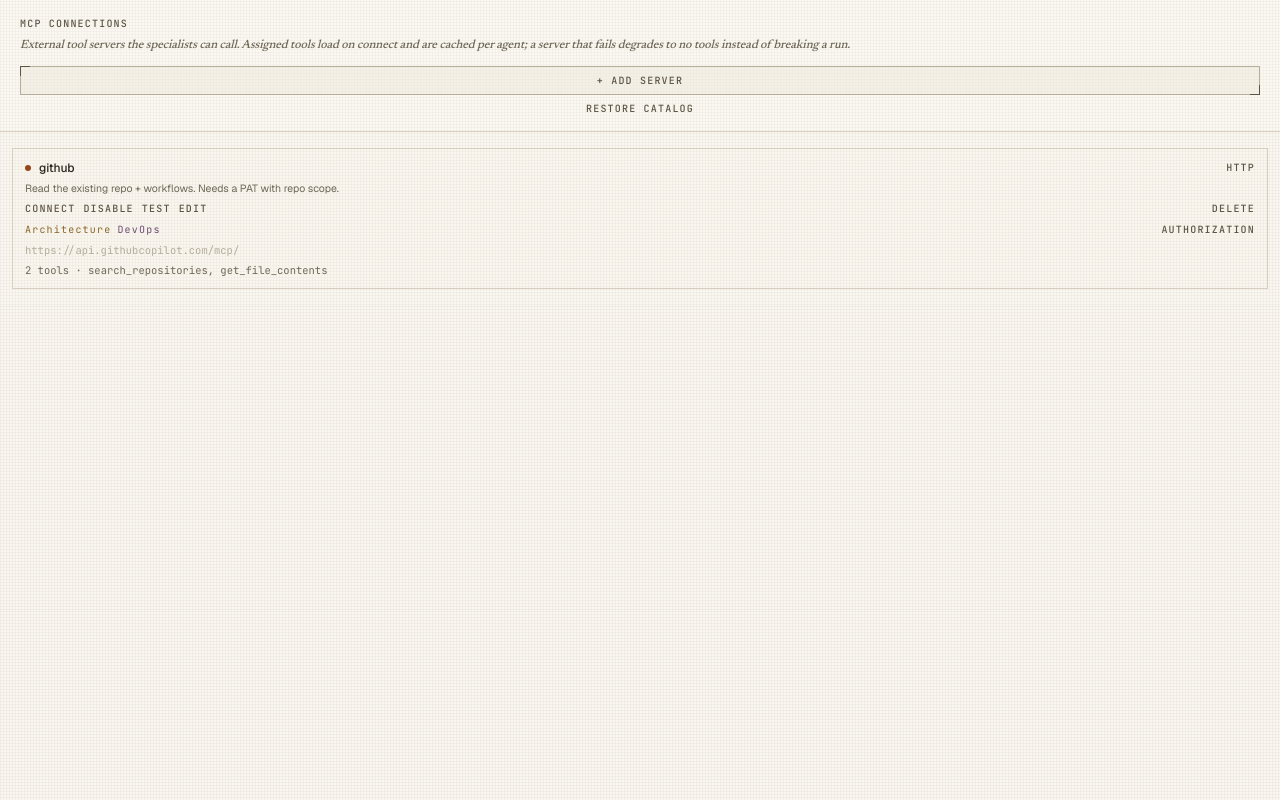
Scenario: McpPanel › cancels a pending OAuth sign-in
Click the button "CONNECT": click(50, 208) [25,201,75,216]
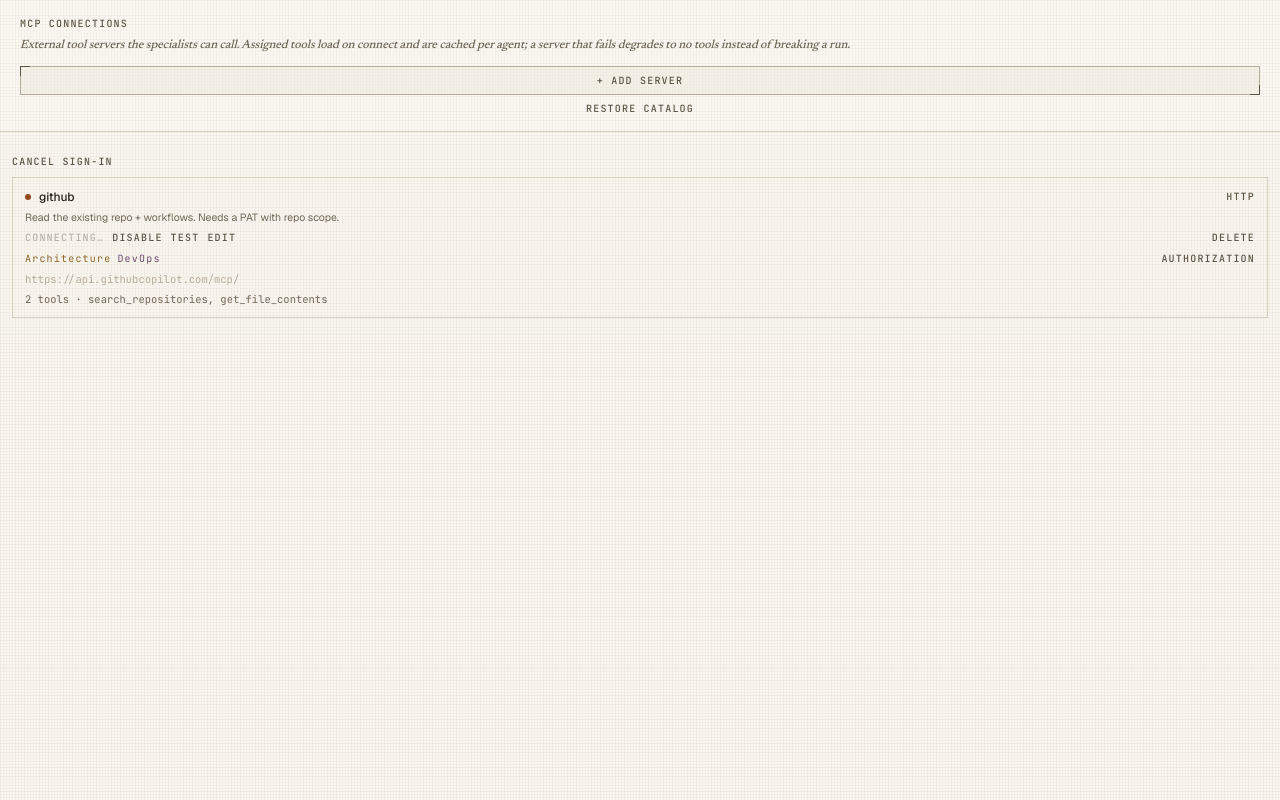
Click the button "CANCEL SIGN-IN": click(62, 161) [12,154,113,168]
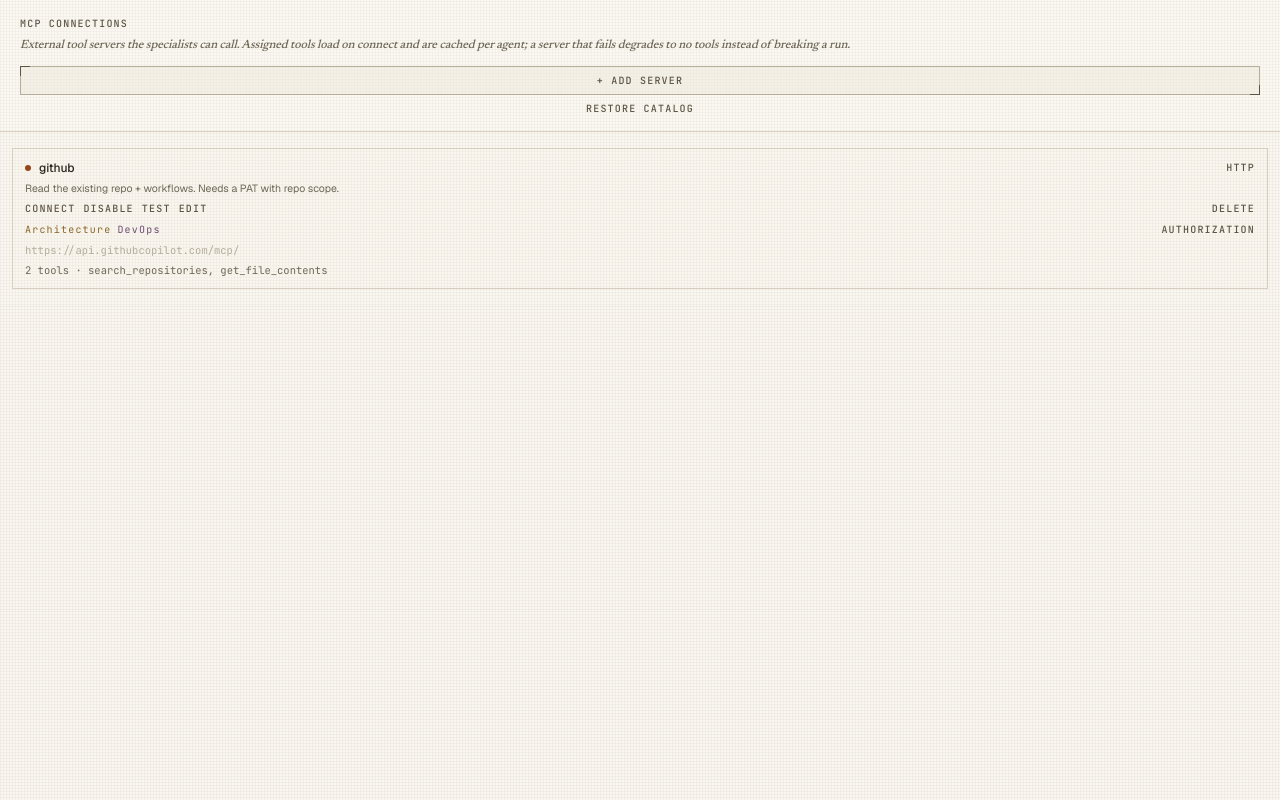
Expected: the button "CANCEL SIGN-IN" is gone
